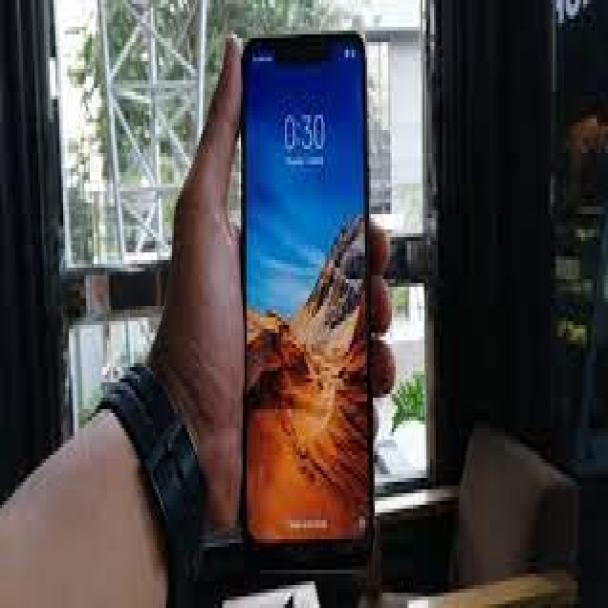Handphone: (242, 31, 376, 569)
